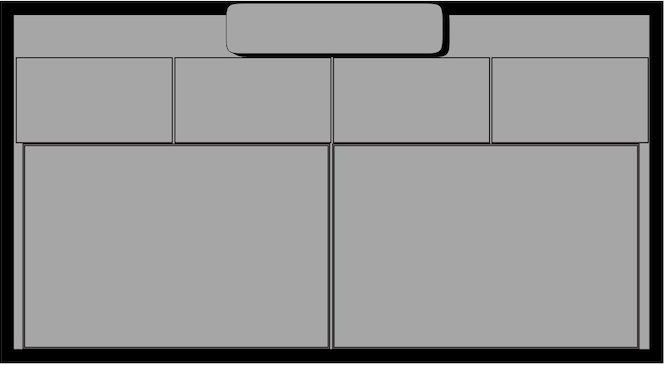

Layout of this report page (visuals, bound fields, positions):
{"tool":"tableau","page":{"name":"Dashboard 1","canvas":[1000,800],"ordinal":0},"visuals":[{"type":"text","box":[355,96,296,71]},{"type":"worksheet","title":"Unemployment Rate by State","mark":"Square","rows":["Region"],"box":[28,104,297,72]},{"type":"image","param":"/Users/macbookdivytish/Desktop/Screenshot 2025-08-02 at 11.51.26 AM.png","box":[623,112,219,61]},{"type":"image","param":"/Users/macbookdivytish/Desktop/Screenshot 2025-08-02 at 11.54.26 AM.png","box":[786,116,184,54]},{"type":"worksheet","title":"Labor Market Gap","mark":"Automatic","box":[499,174,230,130]},{"type":"worksheet","title":"Average Labour Participation Rate","mark":"Automatic","box":[262,176,230,125]},{"type":"worksheet","title":"Unemployment Volatility per State","mark":"Automatic","box":[739,176,216,123]},{"type":"worksheet","title":"Average Unemployment Rate","mark":"Automatic","box":[22,178,231,122]},{"type":"worksheet","title":"Unemployment Rate Trend","mark":"Automatic","rows":["Calculation_6592143992580472834"],"cols":["Region"],"box":[34,306,454,302]},{"type":"worksheet","title":"Employed Population Trend","mark":"Automatic","rows":["Calculation_6592143992581402628"],"cols":["Region"],"box":[501,310,453,297]}]}

Visuals, with their boxes on the page's 1000x800 design canvas (x1, y1, x2, y2). These are canvas units, not pixel positions in the 665x365 screenshot, which may show the page scaled, cropped or inside an application window:
text: <bbox>355, 96, 651, 167</bbox>
"Unemployment Rate by State" worksheet (Square marks): <bbox>28, 104, 325, 176</bbox>
image: <bbox>623, 112, 842, 173</bbox>
image: <bbox>786, 116, 970, 170</bbox>
"Labor Market Gap" worksheet: <bbox>499, 174, 729, 304</bbox>
"Average Labour Participation Rate" worksheet: <bbox>262, 176, 492, 301</bbox>
"Unemployment Volatility per State" worksheet: <bbox>739, 176, 955, 299</bbox>
"Average Unemployment Rate" worksheet: <bbox>22, 178, 253, 300</bbox>
"Unemployment Rate Trend" worksheet: <bbox>34, 306, 488, 608</bbox>
"Employed Population Trend" worksheet: <bbox>501, 310, 954, 607</bbox>
